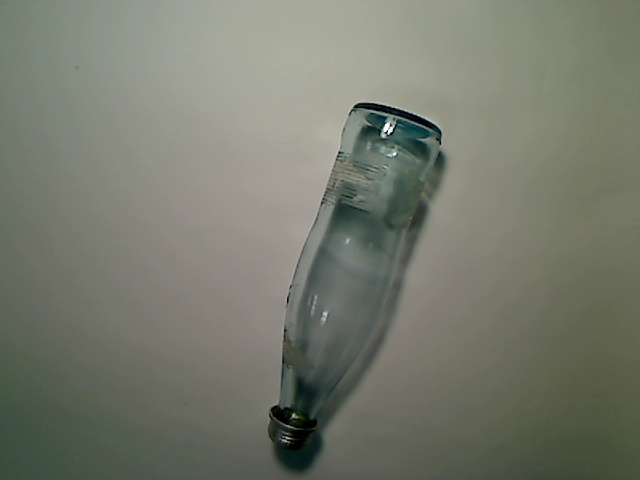bottle: (267, 102, 444, 449)
